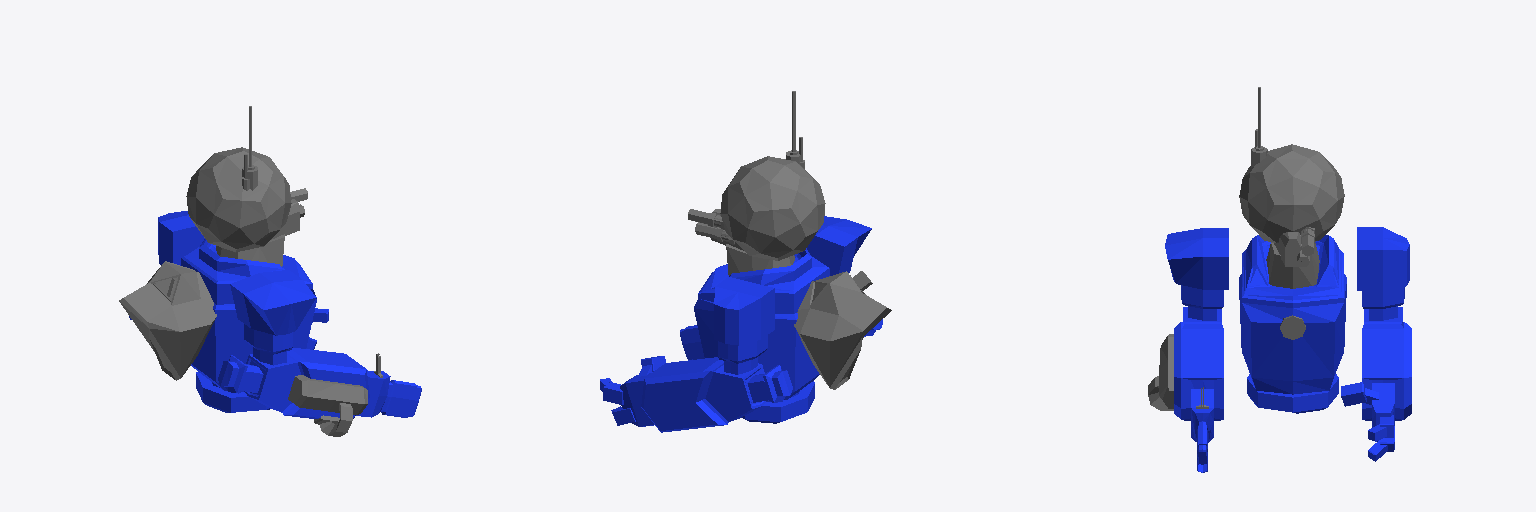
File: Robot_Var_003_SnowBlind.obj
3 views of the same model, side by side, from view 1: azimuth 30°, elevation 25°; view 2: azimuth 150°, elevation 25°; view 3: azimuth 270°, elevation 25° (orthographic).
Visible parts, largest first — view 1: pPlatonic1, pPlatonic2, Body, Shoulder_R Shoulder_R Shoulder_R group1, group1 Arm_R Arm_R Arm_R, pCube3, group1 Hand_Body Hand_Body Hand_Body, Shoulder_L, Base, group1 Piston_R Piston_R Piston_R, pCube6, pTorus1; view 2: pPlatonic1, Arm_L, pPlatonic2, Body, Shoulder_L, Shoulder_R Shoulder_R Shoulder_R group1, Base, Piston_L, pCube6, Hand_Body, group1 Hand_Body Hand_Body Hand_Body; view 3: Body, pPlatonic1, Shoulder_R Shoulder_R Shoulder_R group1, group1 Arm_R Arm_R Arm_R, Shoulder_L, Arm_L, Base, group1 Hand_Body Hand_Body Hand_Body, pCube6, pCube3, Hand_Body, pCube7.
Boxes of the visible parts, <box> form: pPlatonic1: <box>186,147,291,252</box>; pPlatonic2: <box>119,261,216,380</box>; Body: <box>181,239,316,390</box>; Shoulder_R Shoulder_R Shoulder_R group1: <box>230,270,316,365</box>; group1 Arm_R Arm_R Arm_R: <box>244,348,369,418</box>; pCube3: <box>288,375,367,414</box>; group1 Hand_Body Hand_Body Hand_Body: <box>356,370,421,417</box>; Shoulder_L: <box>158,211,204,265</box>; Base: <box>196,372,269,412</box>; group1 Piston_R Piston_R Piston_R: <box>218,355,263,393</box>; pCube6: <box>216,234,284,266</box>; pTorus1: <box>320,403,352,436</box>; pPlatonic1: <box>720,156,825,260</box>; Arm_L: <box>641,357,765,432</box>; pPlatonic2: <box>794,271,891,389</box>; Body: <box>694,248,829,399</box>; Shoulder_L: <box>714,277,774,374</box>; Shoulder_R Shoulder_R Shoulder_R group1: <box>807,216,871,275</box>; Base: <box>742,381,814,423</box>; Piston_L: <box>747,365,792,402</box>; pCube6: <box>726,244,794,275</box>; Hand_Body: <box>620,373,653,426</box>; group1 Hand_Body Hand_Body Hand_Body: <box>680,325,704,359</box>; Body: <box>1239,235,1346,394</box>; pPlatonic1: <box>1239,144,1344,242</box>; Shoulder_R Shoulder_R Shoulder_R group1: <box>1165,228,1228,320</box>; group1 Arm_R Arm_R Arm_R: <box>1174,307,1223,420</box>; Shoulder_L: <box>1357,227,1409,320</box>; Arm_L: <box>1362,307,1411,420</box>; Base: <box>1247,374,1338,413</box>; group1 Hand_Body Hand_Body Hand_Body: <box>1191,389,1213,472</box>; pCube6: <box>1266,243,1319,288</box>; pCube3: <box>1159,334,1173,408</box>; Hand_Body: <box>1372,383,1394,441</box>; pCube7: <box>1274,232,1301,266</box>.
Bounding box in the file's own units: 89.04 × 109 × 80.83.